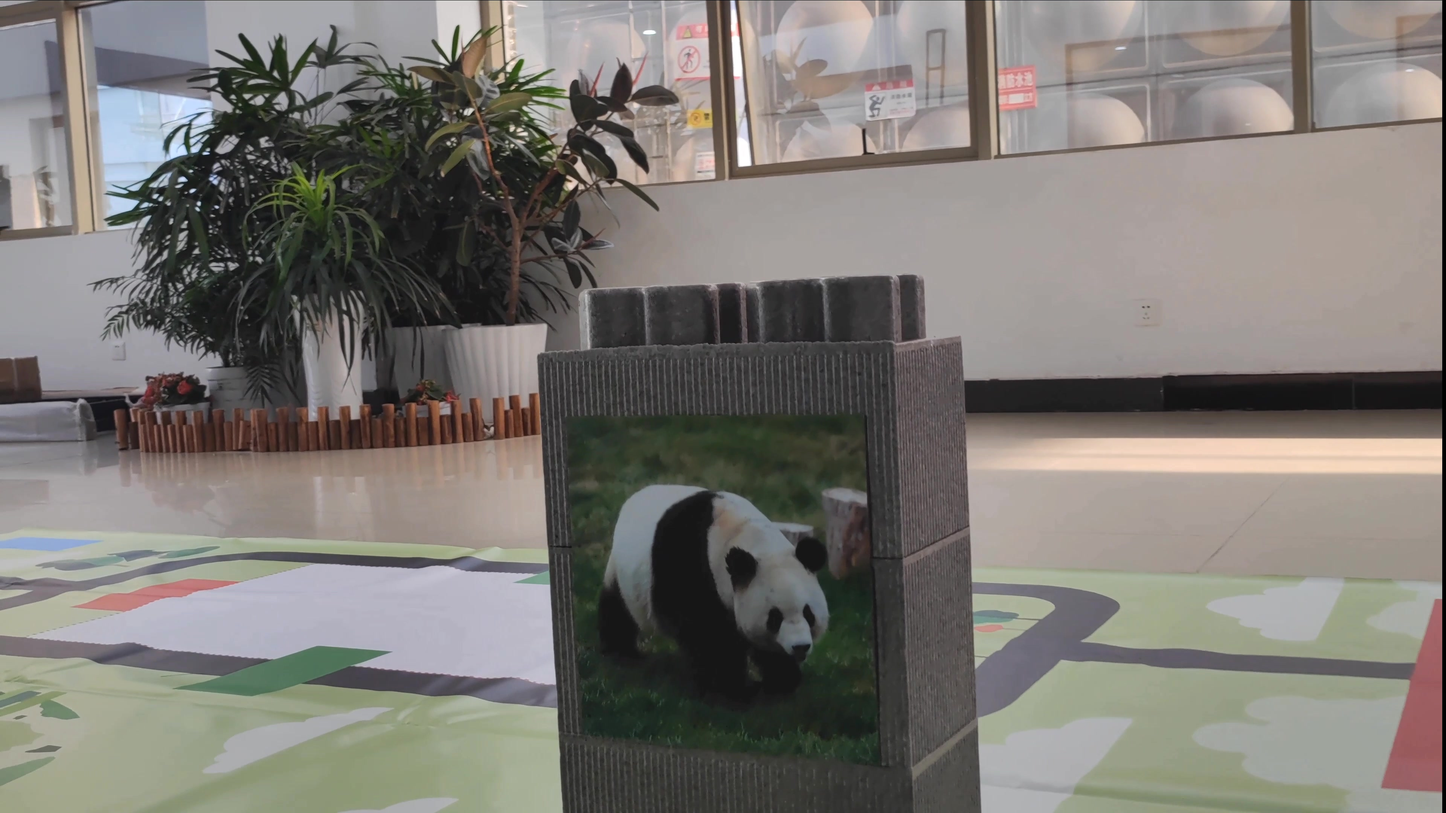panda: (558, 422, 855, 723)
